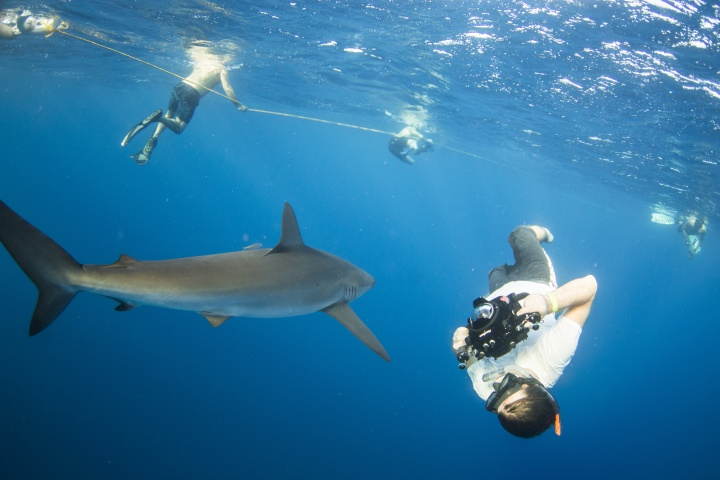Sedoso: (1, 190, 417, 369)
